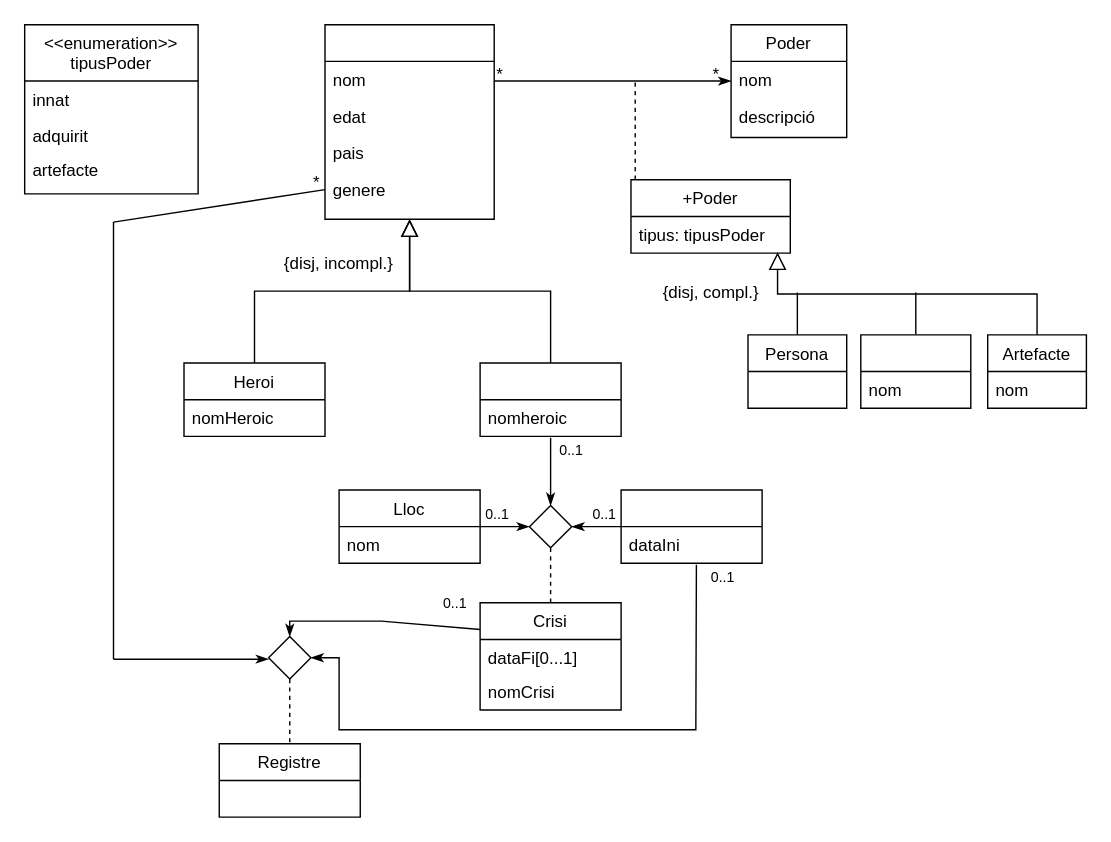
This 1111x842 diagram has some shape labels left out. The shapes that lost their labels are listed below. From the top down, each one's box as (x1, y1, x2, y2) in pixels, then its label:
(324, 23, 494, 219): PersonaPoder
(859, 333, 971, 408): Ubicació
(479, 362, 621, 436): Malvat
(620, 489, 762, 563): Periode
